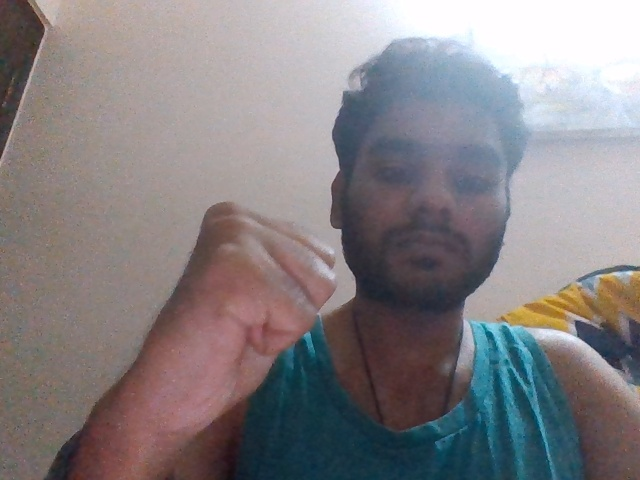yes: (123, 200, 342, 445)
